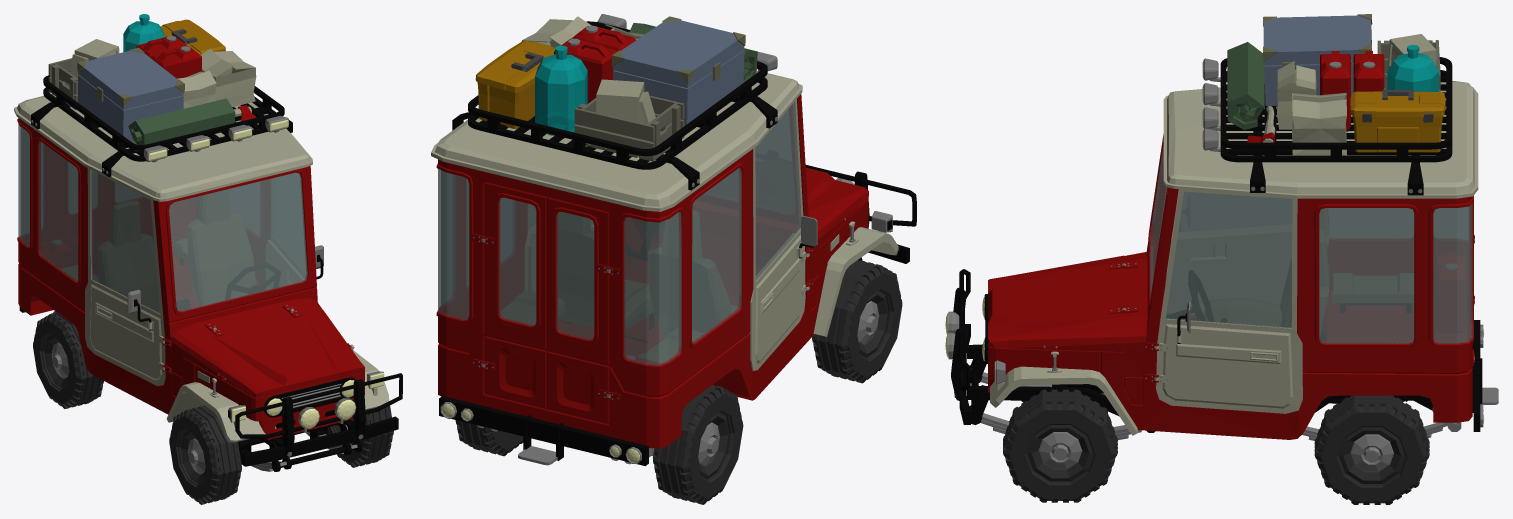
The model's file is Truck.fbx.
3 renders of one model, left to right at view 1: azimuth 30°, elevation 25°; view 2: azimuth 150°, elevation 25°; view 3: azimuth 270°, elevation 25°, orthographic. The views are drawn at different scales.
Visible parts, largest first — view 1: body, glass, luggage, wheel1, wheel3; view 2: body, glass, luggage, wheel3, wheel1; view 3: body, luggage, glass, wheel1, wheel3.
Part boxes in pixels (x1=…): body: x1=14, y1=71, x2=402, y2=471; glass: x1=18, y1=123, x2=307, y2=311; luggage: x1=48, y1=14, x2=256, y2=151; wheel1: x1=169, y1=405, x2=393, y2=504; wheel3: x1=33, y1=312, x2=103, y2=408; body: x1=431, y1=14, x2=916, y2=466; glass: x1=438, y1=111, x2=794, y2=365; luggage: x1=475, y1=16, x2=757, y2=161; wheel3: x1=455, y1=384, x2=743, y2=504; wheel1: x1=812, y1=260, x2=902, y2=383; body: x1=945, y1=57, x2=1498, y2=440; luggage: x1=1227, y1=14, x2=1445, y2=155; glass: x1=1150, y1=145, x2=1472, y2=343; wheel1: x1=1003, y1=389, x2=1117, y2=502; wheel3: x1=1314, y1=395, x2=1429, y2=504.
Bounding box in the file's own units: 208 × 355 × 432.
